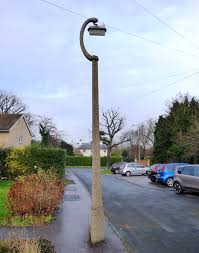light_pole: (85, 18, 106, 245)
